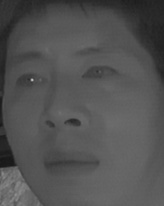eye: (77, 63, 119, 85), (13, 69, 48, 91)
mouth: (39, 145, 99, 180)
